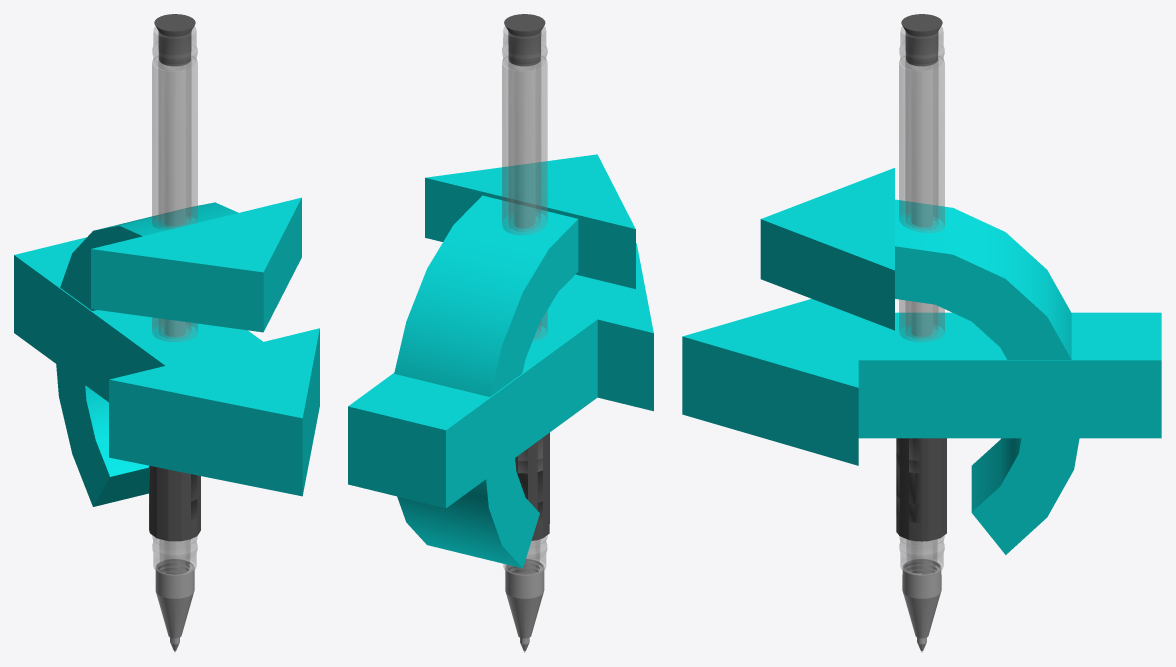
File: tool.fbx
3 renders of one model, left to right at view 1: azimuth 30°, elevation 25°; view 2: azimuth 150°, elevation 25°; view 3: azimuth 270°, elevation 25°, orthographic.
Parts seen in each view (by area): view 1: jiantou1, jiantou2, pen1; view 2: jiantou2, jiantou1, pen1; view 3: jiantou1, jiantou2, pen1.
Boxes of the visible parts, box(x1,y1,x2,y2) form: jiantou1: box(14, 237, 319, 496); jiantou2: box(56, 197, 301, 506); pen1: box(149, 14, 200, 652); jiantou2: box(394, 154, 635, 568); jiantou1: box(348, 243, 653, 508); pen1: box(502, 14, 549, 652); jiantou1: box(682, 298, 1161, 465); jiantou2: box(760, 168, 1079, 554); pen1: box(896, 14, 946, 652).
Bounding box in the file's own units: 4.82 × 13.8 × 9.49.
